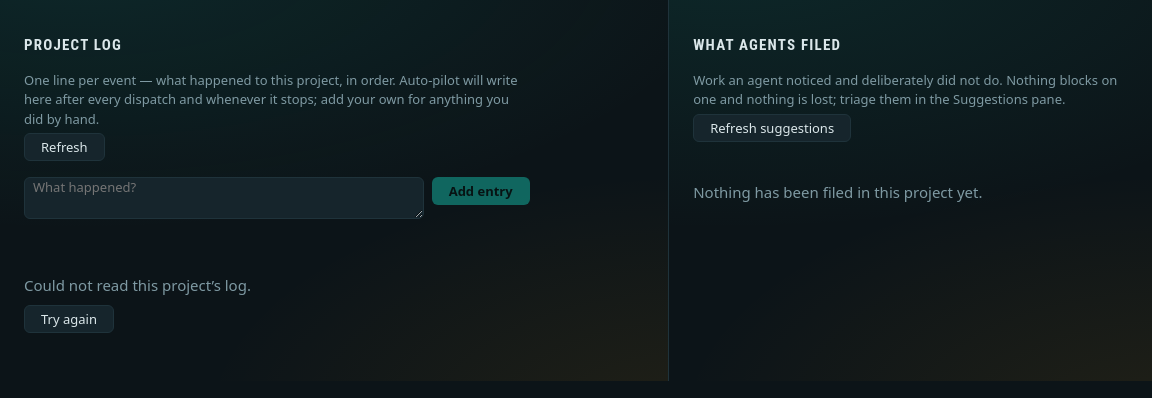
Test: the project log › distinguishes a failed read from an empty diary, and offers a way back
Expected: the text "Could not read this project’s log." is shown, [24, 275, 251, 297]
Click the button "Try again" at (69, 319), box [24, 305, 114, 333]
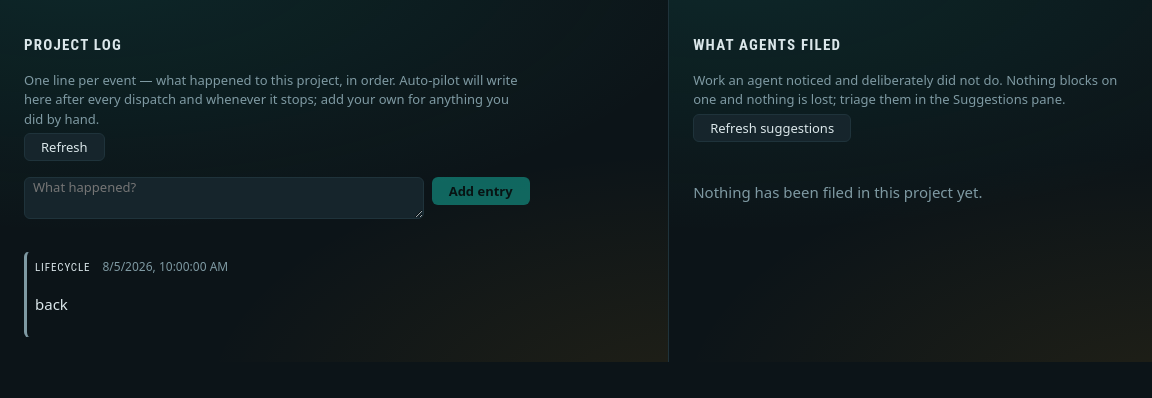
Now the text "back" is shown, box [35, 294, 68, 314]
